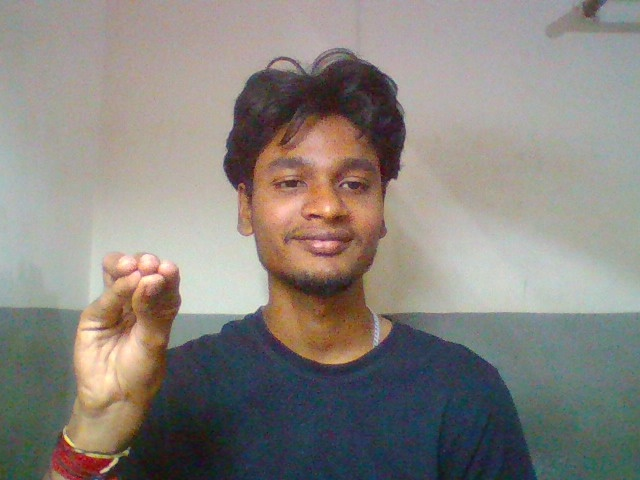Z: (64, 237, 197, 407)
